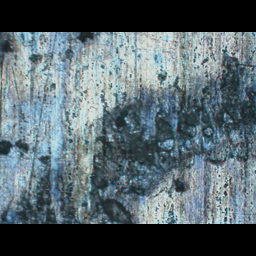d: (3, 58, 256, 223)
